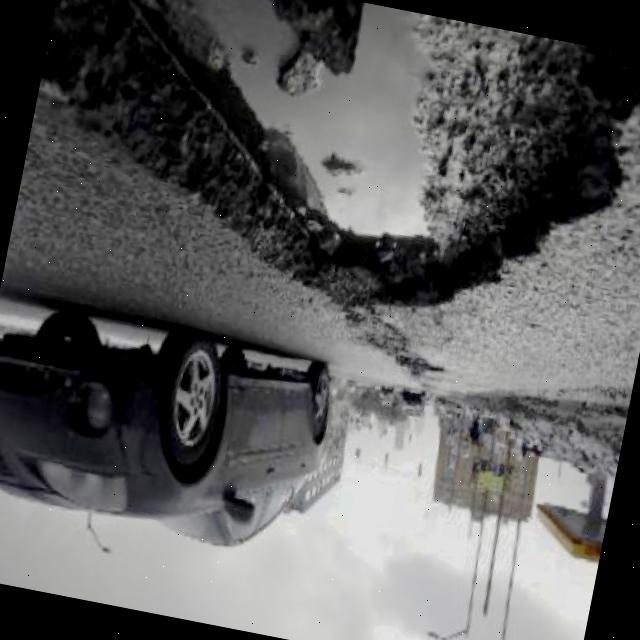pothole: (5, 0, 640, 383)
